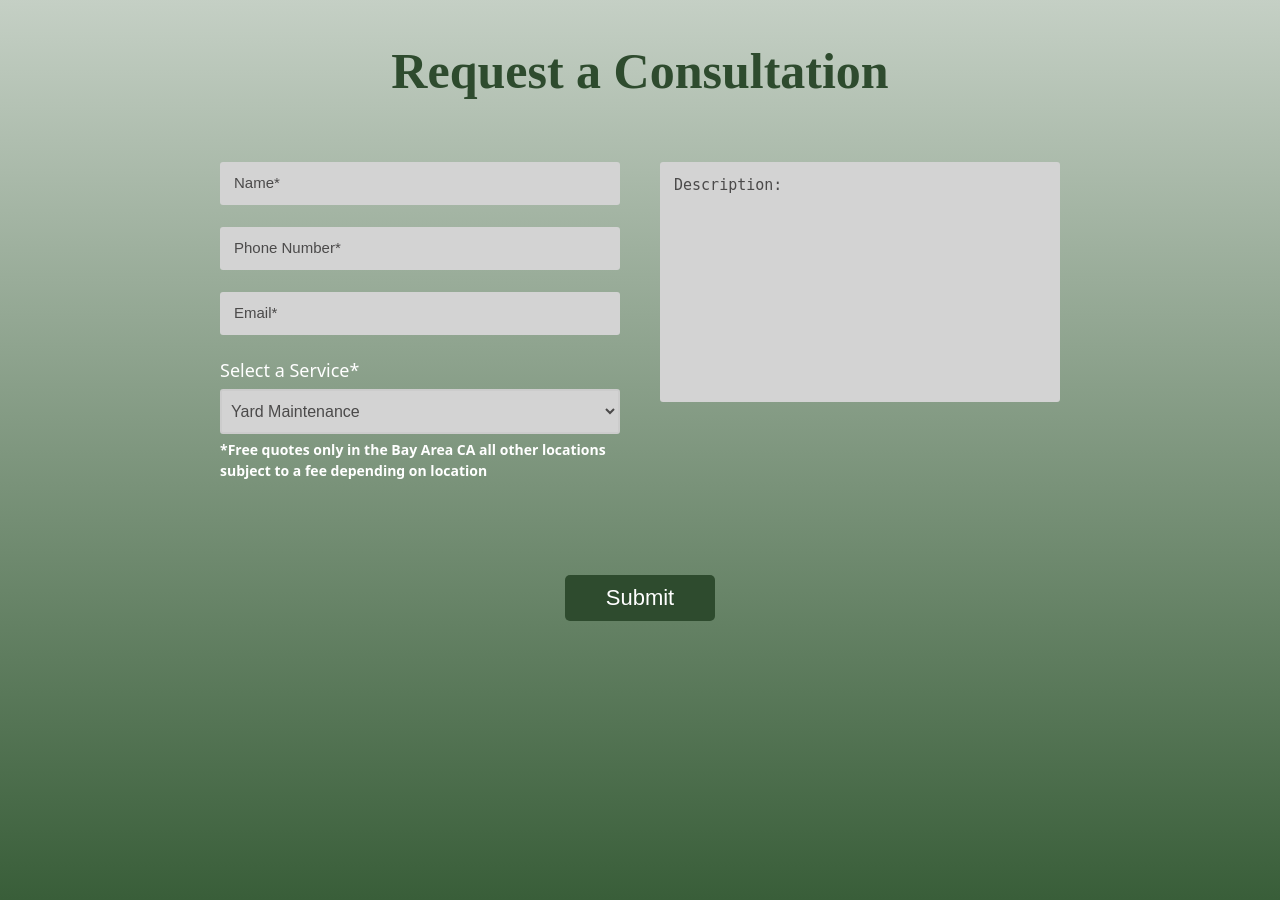
Test: Quote form validation › clears the name error once the name is valid
The image size is (1280, 900).
In the field with placeholder "Name*": (420, 184) [220,162,620,205], type "Jo"
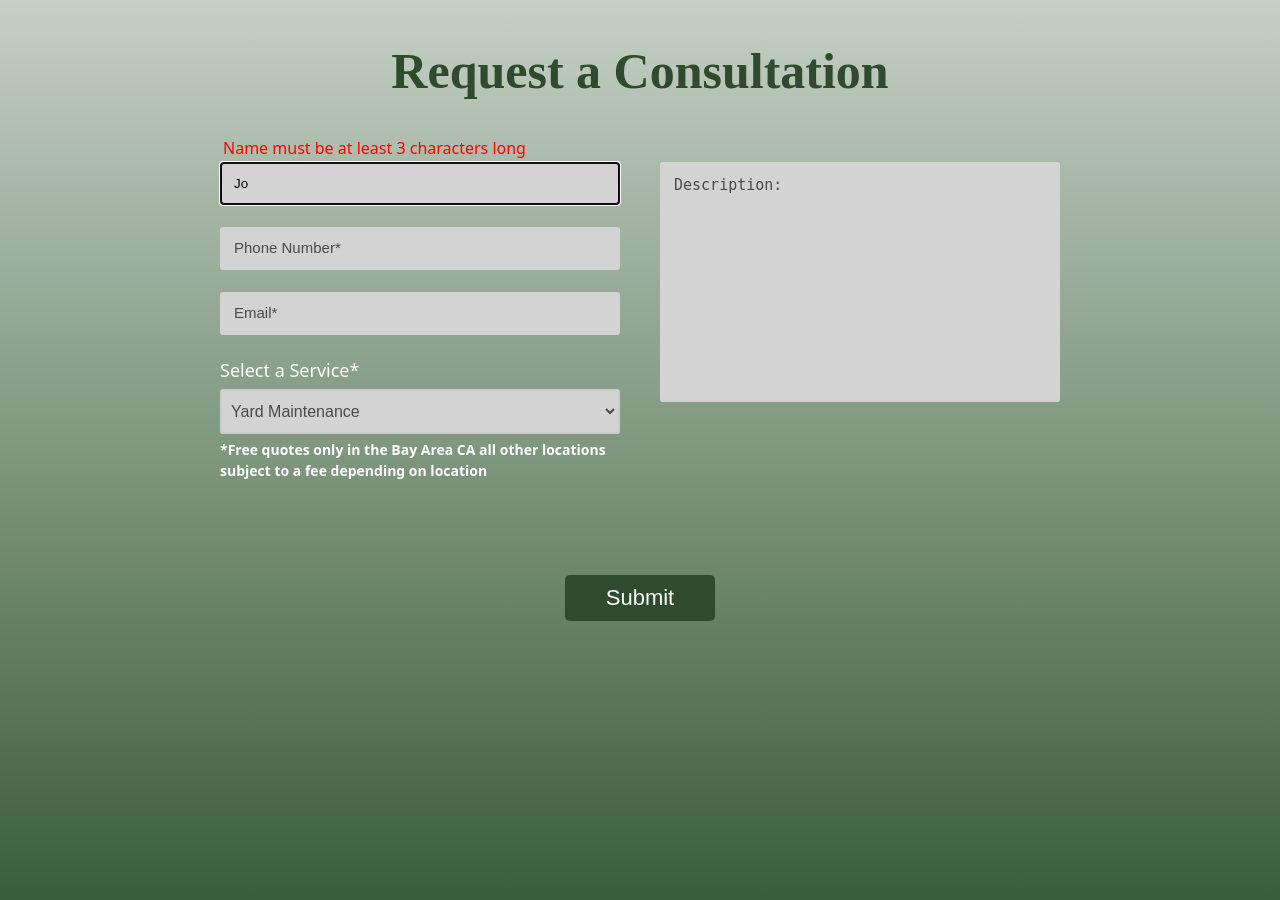
In the field with placeholder "Name*": (420, 184) [220,162,620,205], type "hn"
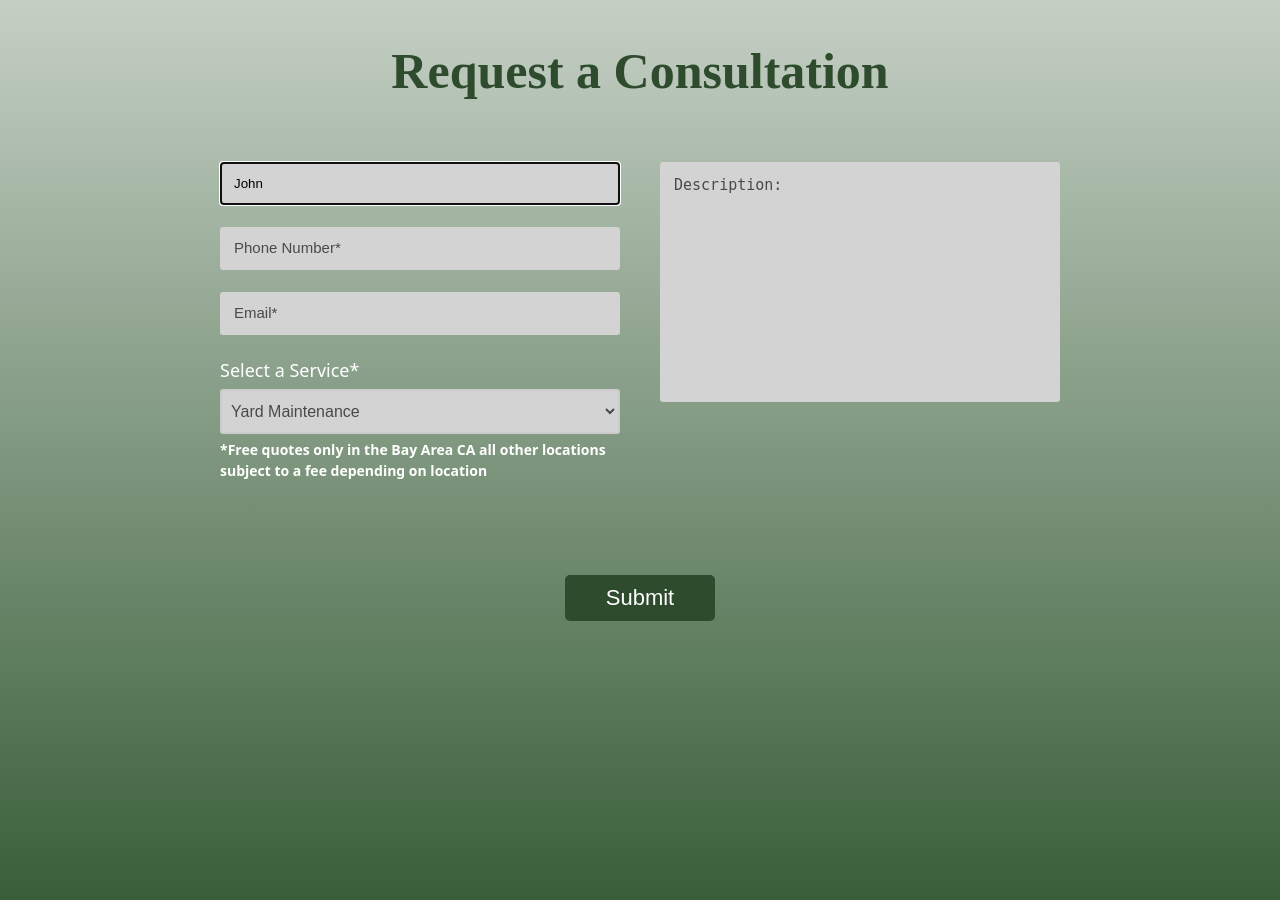
Now the text "at least 3 characters" is gone
